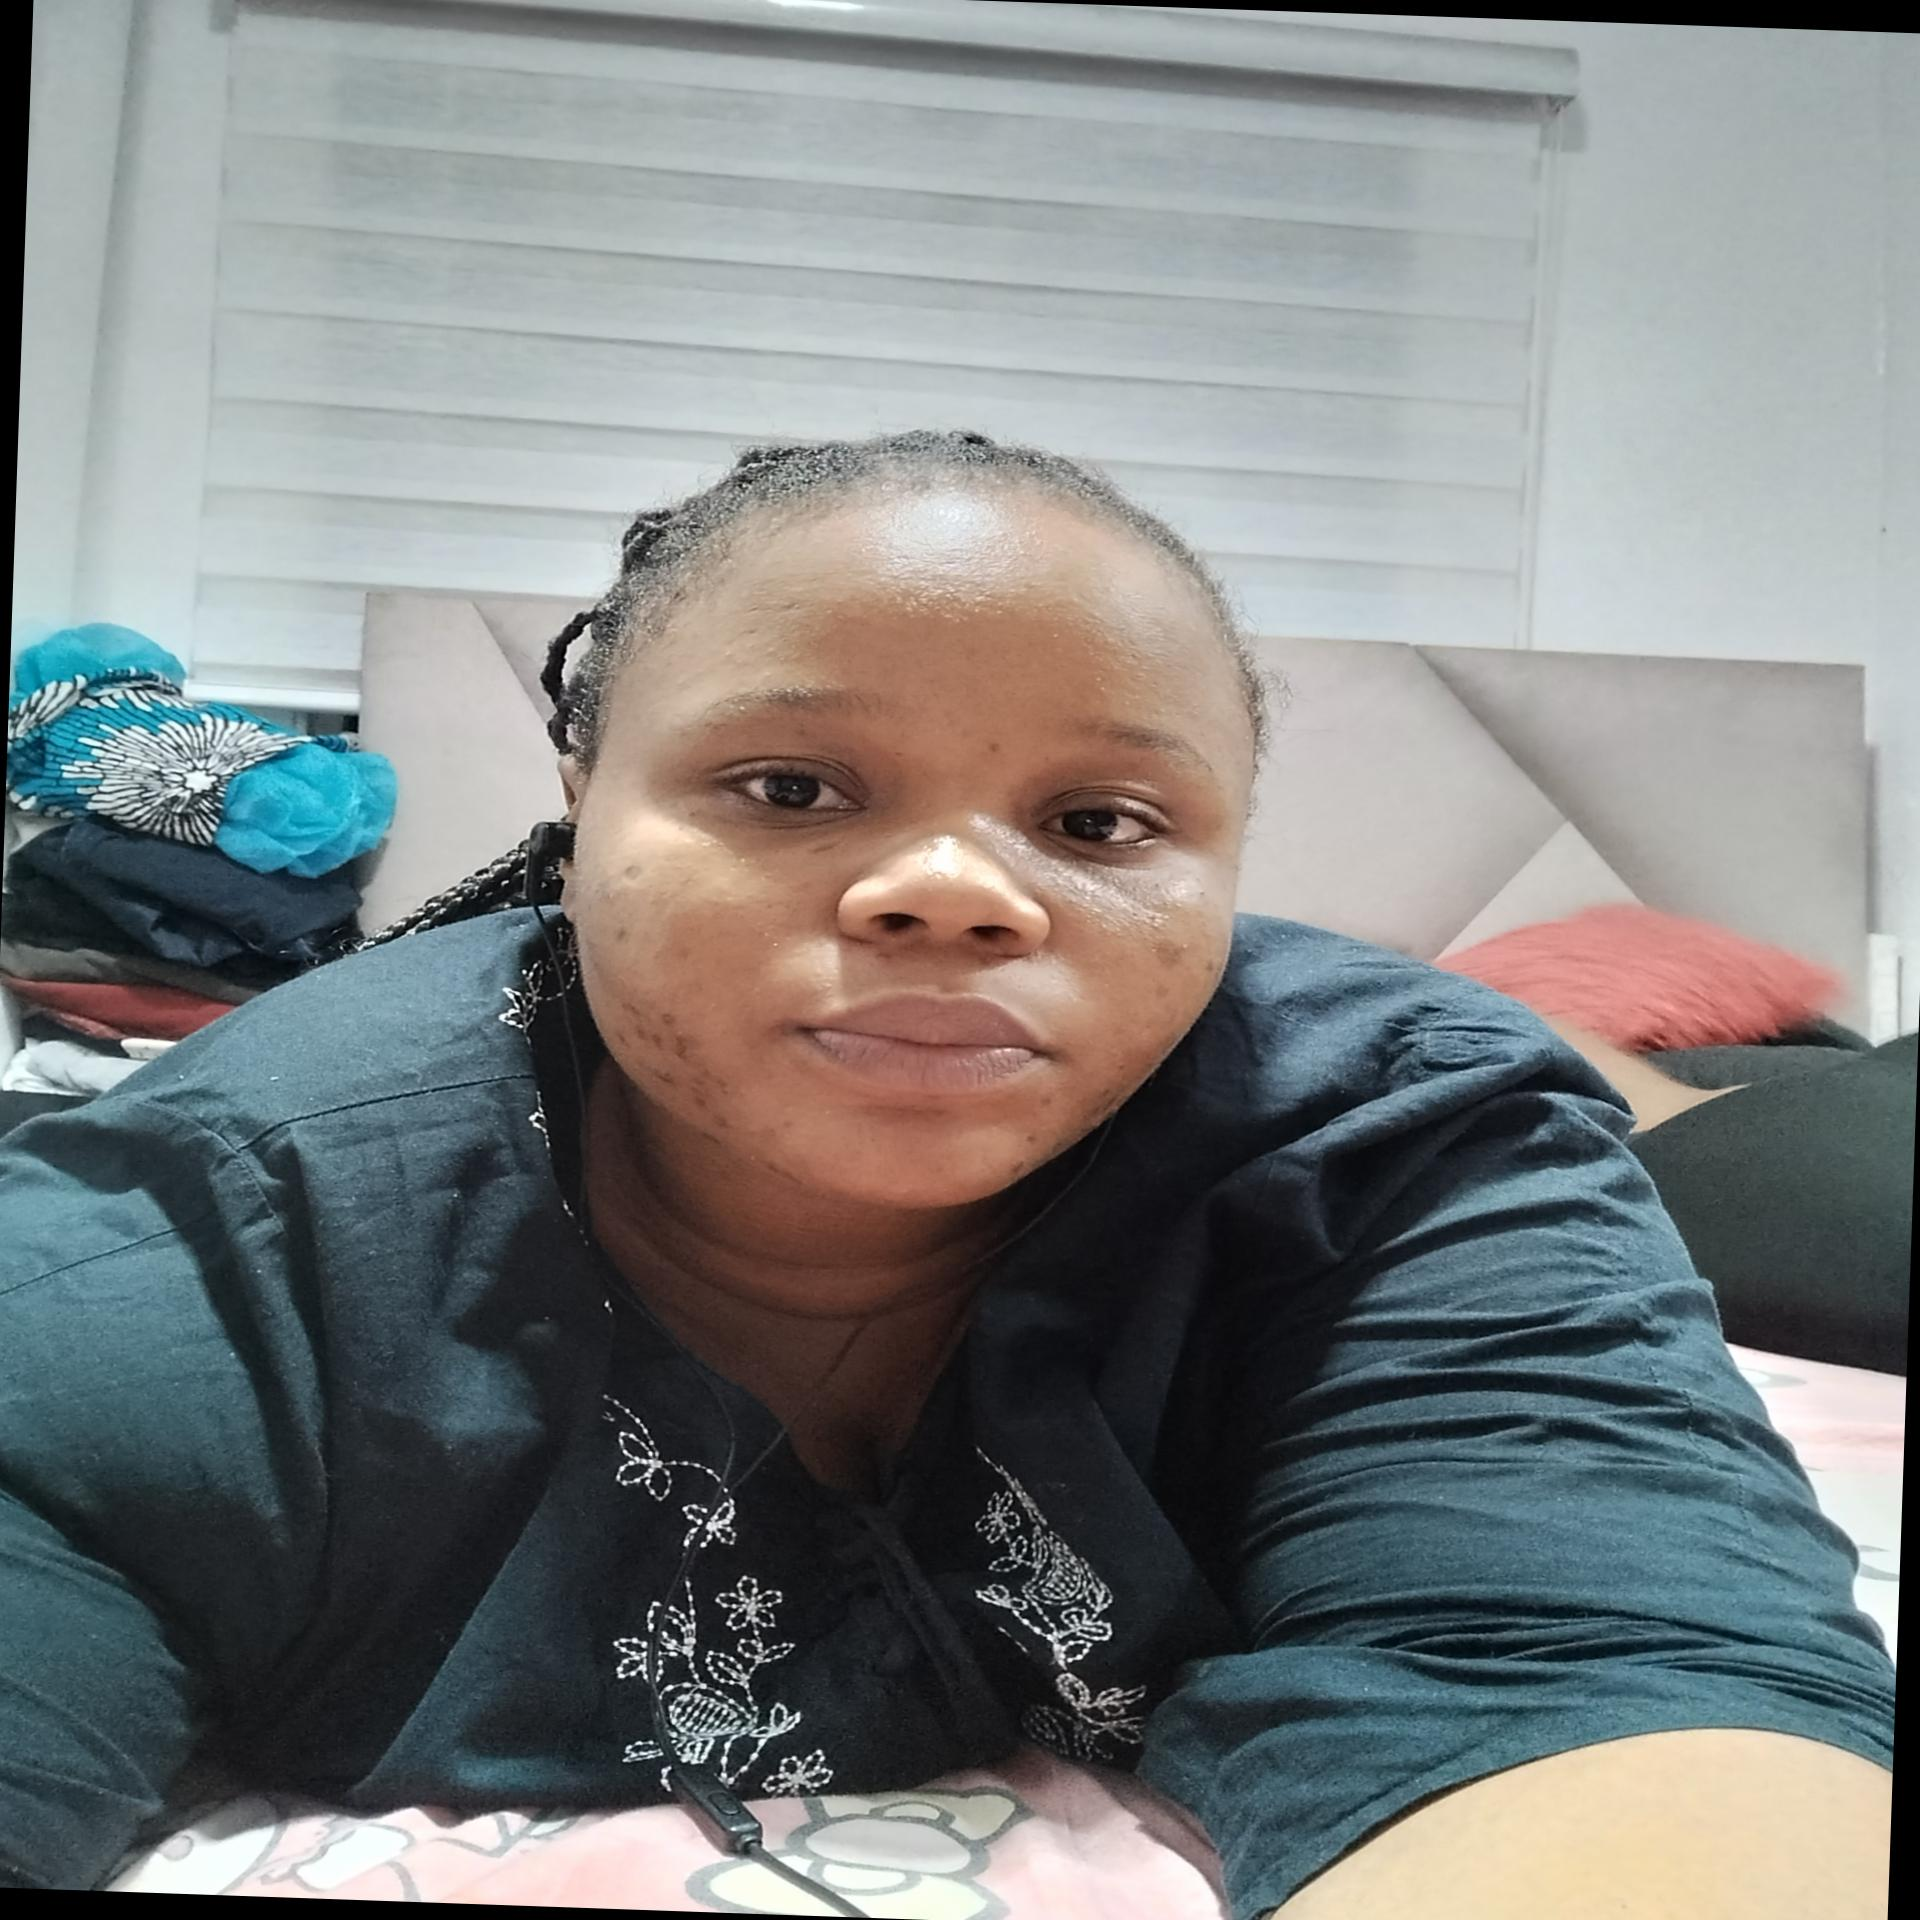Acne: (644, 1000, 686, 1029), (796, 832, 837, 860), (1146, 941, 1185, 967), (768, 1159, 804, 1187), (714, 638, 747, 666), (696, 1069, 730, 1094), (644, 1064, 680, 1085), (1136, 702, 1173, 723), (601, 1002, 645, 1020), (1136, 911, 1171, 928), (865, 949, 897, 969), (1199, 955, 1224, 979), (642, 1032, 670, 1053), (978, 738, 1011, 756), (971, 955, 1007, 971), (710, 1108, 730, 1138), (668, 1037, 696, 1057), (756, 640, 784, 659), (1007, 1153, 1030, 1176), (1094, 1074, 1116, 1097), (1152, 983, 1173, 1006), (610, 920, 629, 944), (758, 666, 791, 680), (615, 1030, 631, 1050), (1036, 1090, 1057, 1104), (695, 1092, 707, 1115), (1022, 1134, 1043, 1143)
Englarged Pores: (756, 883, 825, 934)
